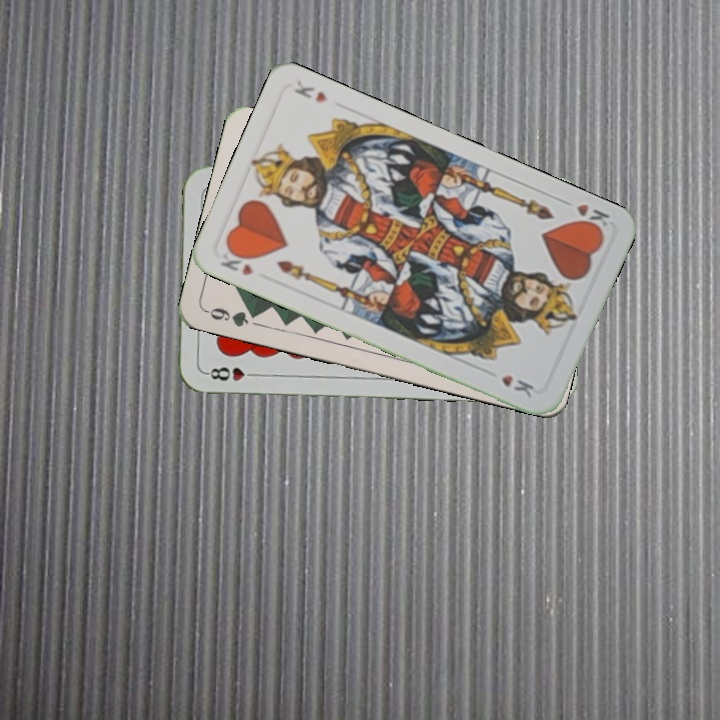G9: (202, 303, 263, 330)
H8: (202, 363, 261, 383)
HK: (557, 195, 613, 235), (216, 244, 257, 279)
